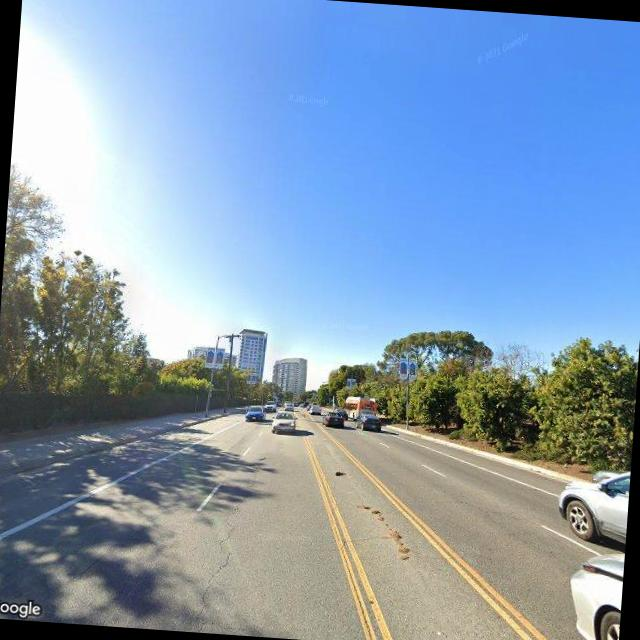pothole: (188, 477, 248, 632)
